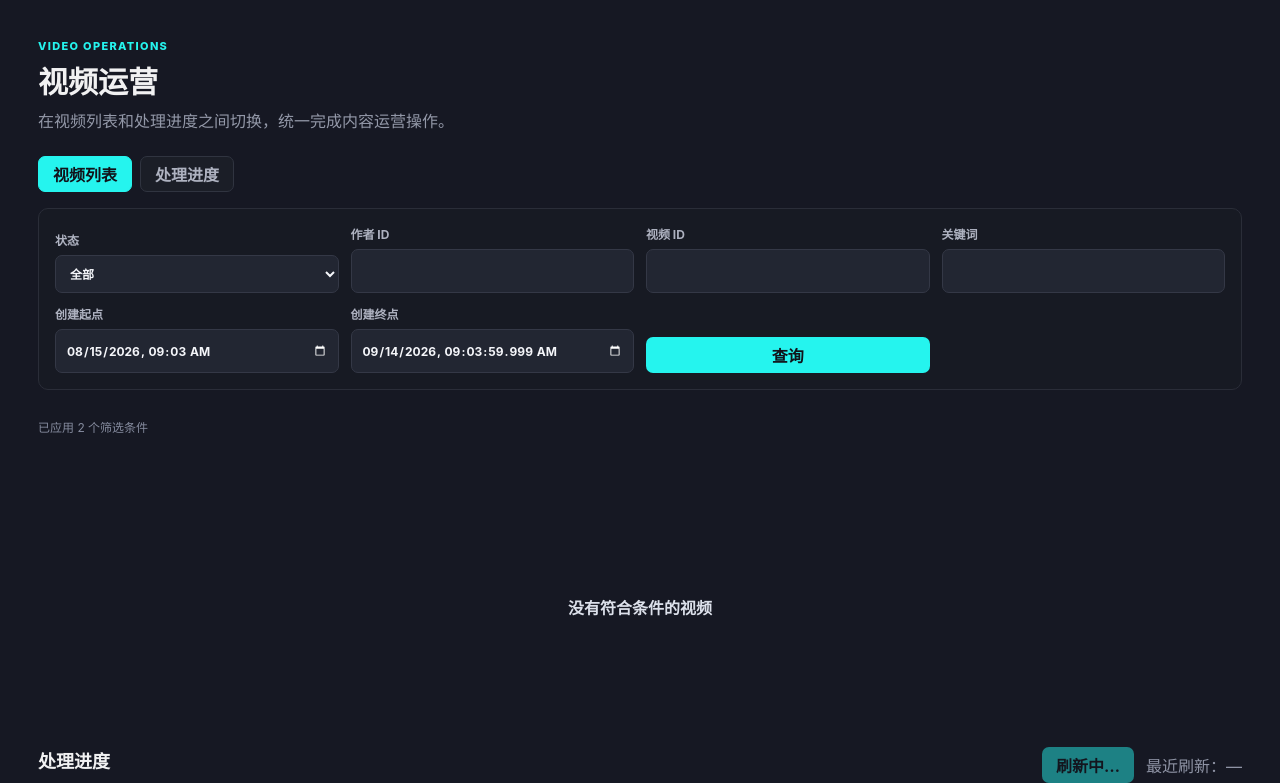
Test: video operations processing view › ignores stale overview responses after a newer refresh
Click the tab "处理进度" at (187, 174), box [140,156,234,192]
(page scrolled)
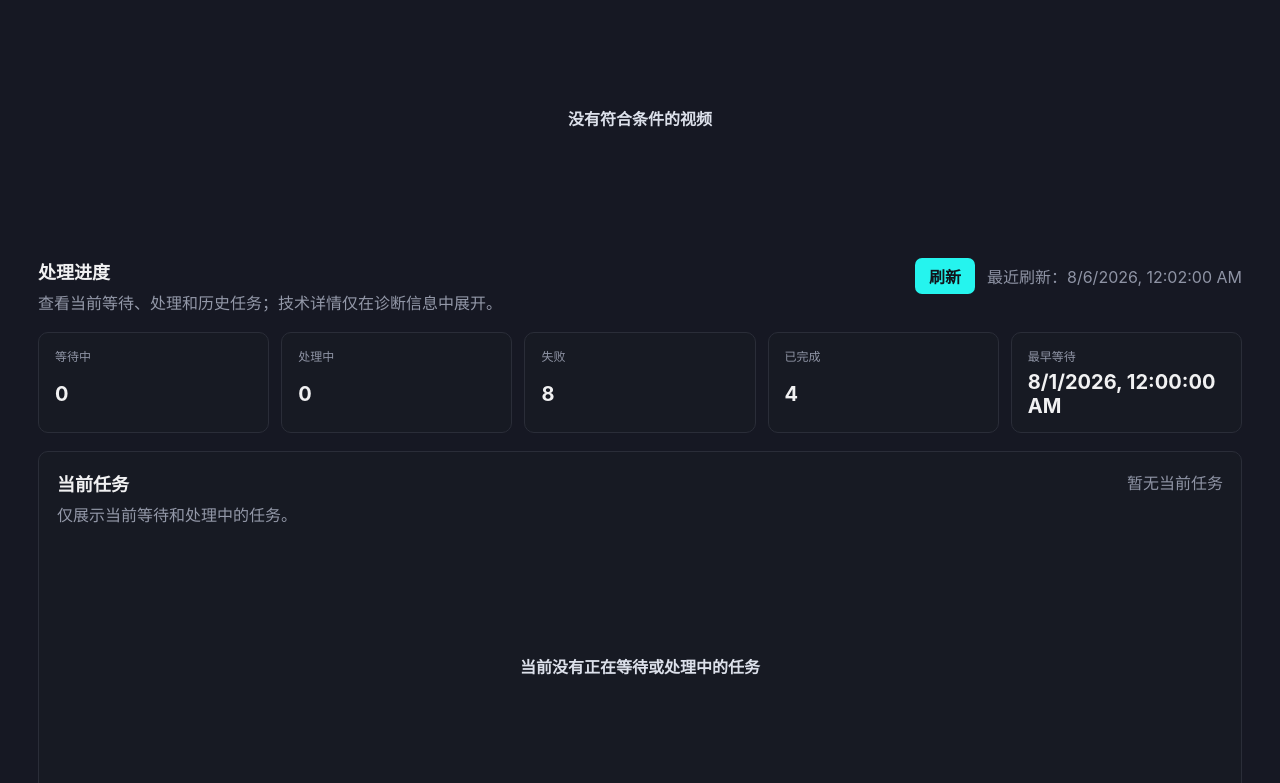
expect the text "8" is shown: met, box [541,382,554,406]
